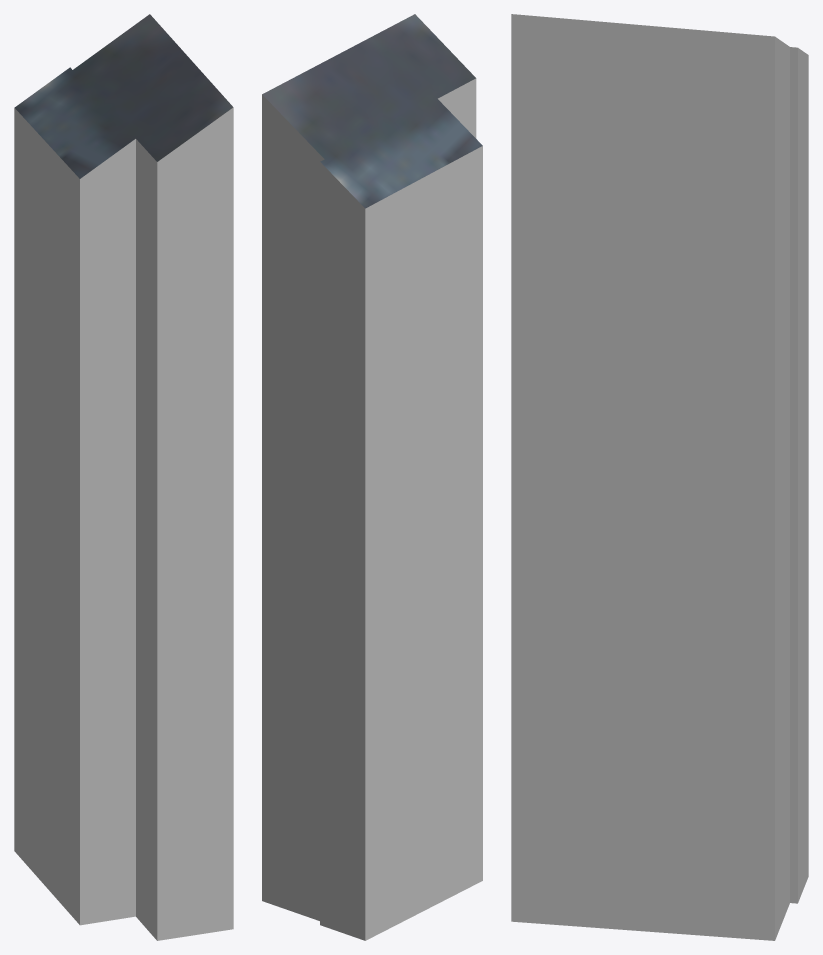
The model's file is DEBW_0010007THXn.gltf.
3 renders of one model, left to right at view 1: azimuth 30°, elevation 25°; view 2: azimuth 150°, elevation 25°; view 3: azimuth 270°, elevation 25°, orthographic. The views are drawn at different scales.
Parts seen in each view (by area): view 1: Z_UP; view 2: Z_UP; view 3: Z_UP.
Part boxes in pixels (left/top/right/bottom): Z_UP: left=14, top=14, right=233, bottom=940; Z_UP: left=262, top=14, right=482, bottom=940; Z_UP: left=511, top=14, right=808, bottom=940.
Bounding box in the file's own units: 3.61 × 19.28 × 5.73.
2 materials, 1 textured.
